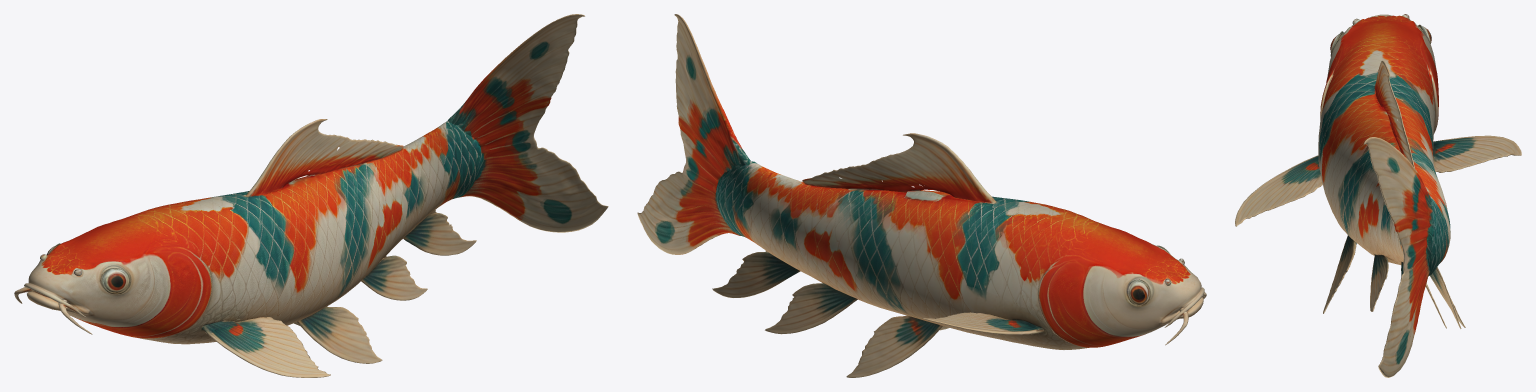
File: koi-fish-animated.glb
The picture shows the model from 3 angles, left to right: view 1: azimuth 30°, elevation 25°; view 2: azimuth 150°, elevation 25°; view 3: azimuth 270°, elevation 25°; orthographic projection. The views are drawn at different scales.
Visible parts, largest first — view 1: d9712e8c-4a26-46da-a54e-1535d70ec6e3; view 2: d9712e8c-4a26-46da-a54e-1535d70ec6e3; view 3: d9712e8c-4a26-46da-a54e-1535d70ec6e3.
Part boxes in pixels (bbox=[...]): d9712e8c-4a26-46da-a54e-1535d70ec6e3: bbox=[14, 14, 608, 377]; d9712e8c-4a26-46da-a54e-1535d70ec6e3: bbox=[637, 14, 1206, 377]; d9712e8c-4a26-46da-a54e-1535d70ec6e3: bbox=[1235, 14, 1521, 377].
Size of the model in its own units: 0.9995 by 0.478 by 0.4234.
1 material, 1 textured.
